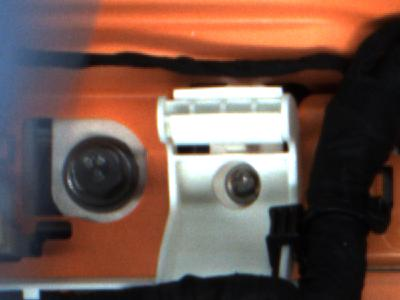nut_b: (61, 143, 138, 212)
